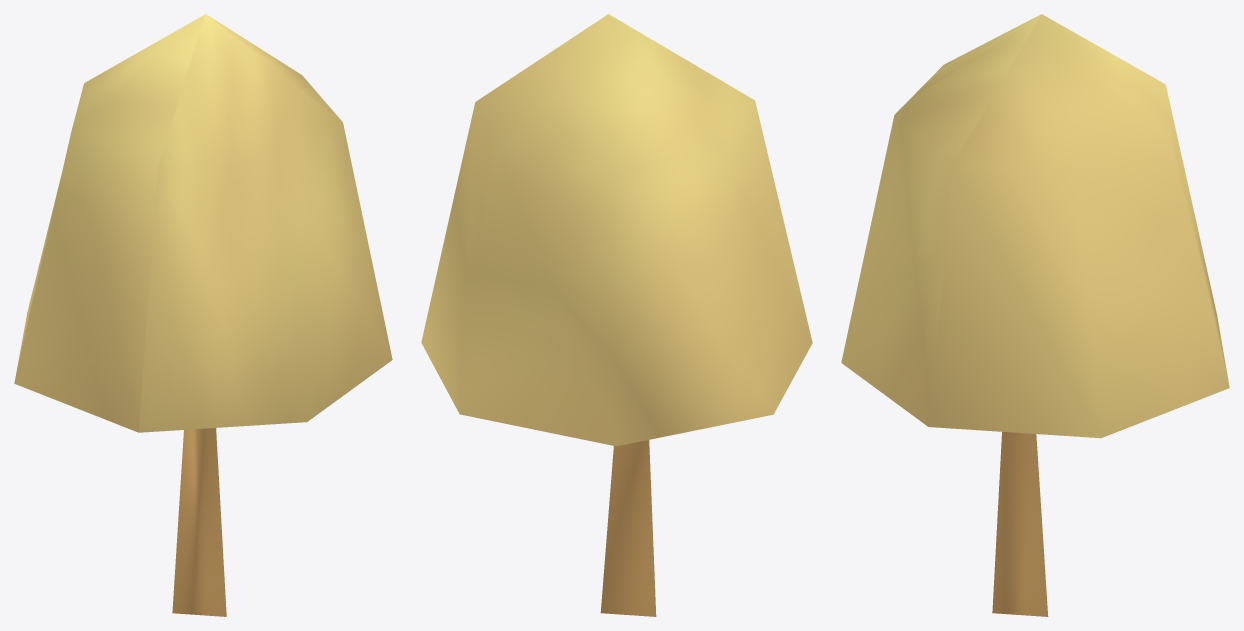
The picture shows the model from 3 angles, left to right: view 1: azimuth 30°, elevation 25°; view 2: azimuth 150°, elevation 25°; view 3: azimuth 270°, elevation 25°; orthographic projection. The views are drawn at different scales.
Visible parts, largest first — view 1: LOD2Listvennoe; view 2: LOD2Listvennoe; view 3: LOD2Listvennoe.
Boxes of the visible parts, box(x1,y1,x2,y2) form: LOD2Listvennoe: box(14, 14, 392, 616); LOD2Listvennoe: box(421, 14, 812, 616); LOD2Listvennoe: box(841, 14, 1229, 616).
Size of the model in its own units: 9.06 by 15.31 by 8.97.
Materials: 1 (1 with a texture image).
